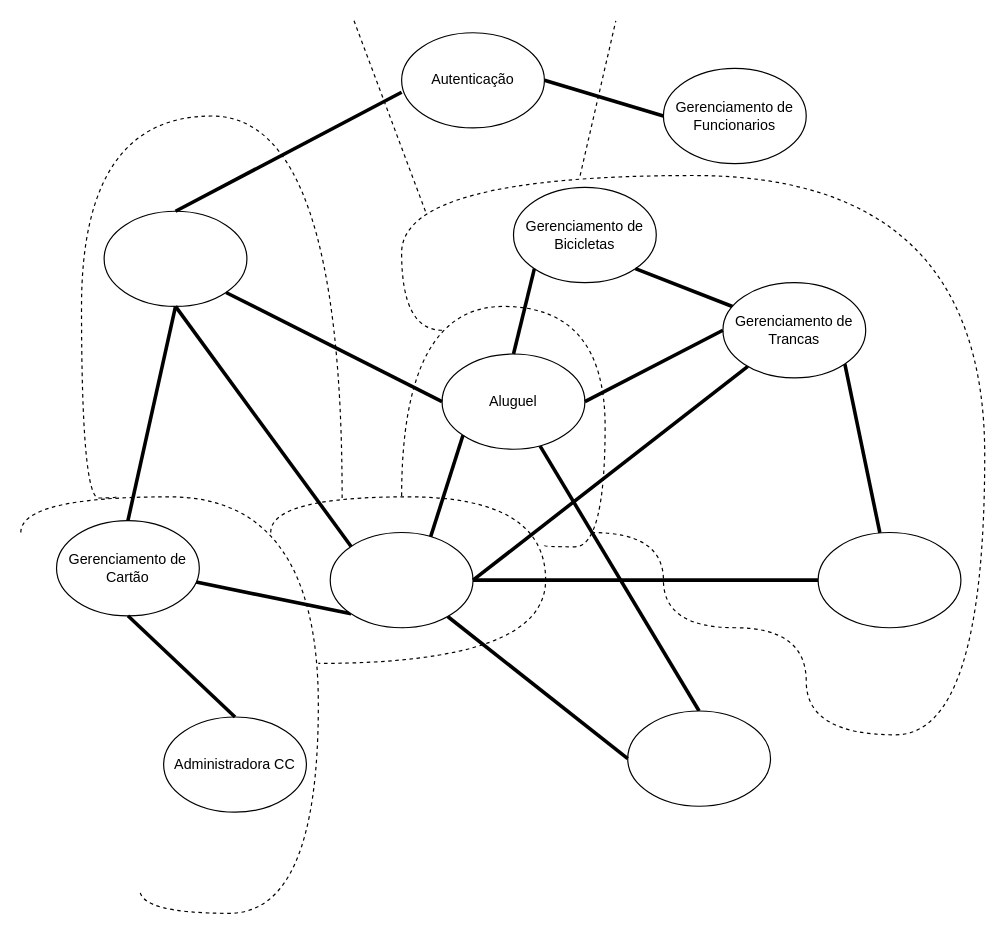
Image size: 1006x934. Some labels were removed from this diagram. Here are the shapes that lost their labels. From the top down, the box of each, then its label:
(103, 210, 247, 306): Gerenciamento de Ciclista
(329, 531, 473, 628): Envio de Email
(817, 531, 961, 628): Gerenciamento de Totens
(627, 710, 771, 806): Cobrança de Taxas Atrasadas
